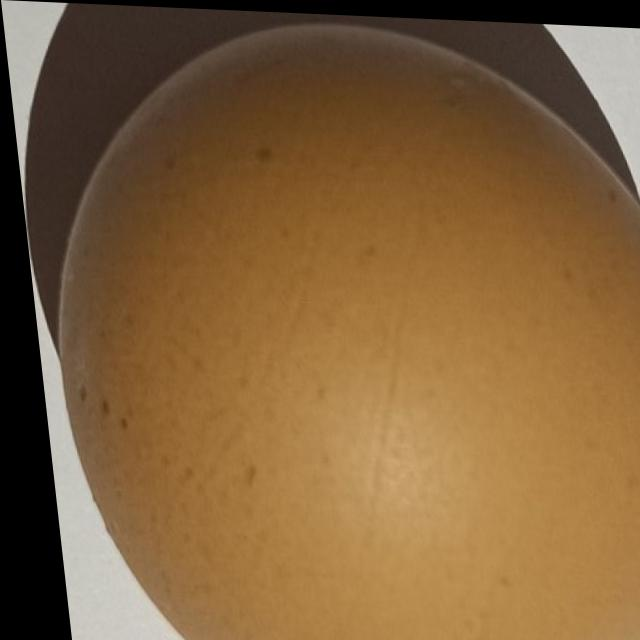unfresh: (23, 7, 640, 640)
